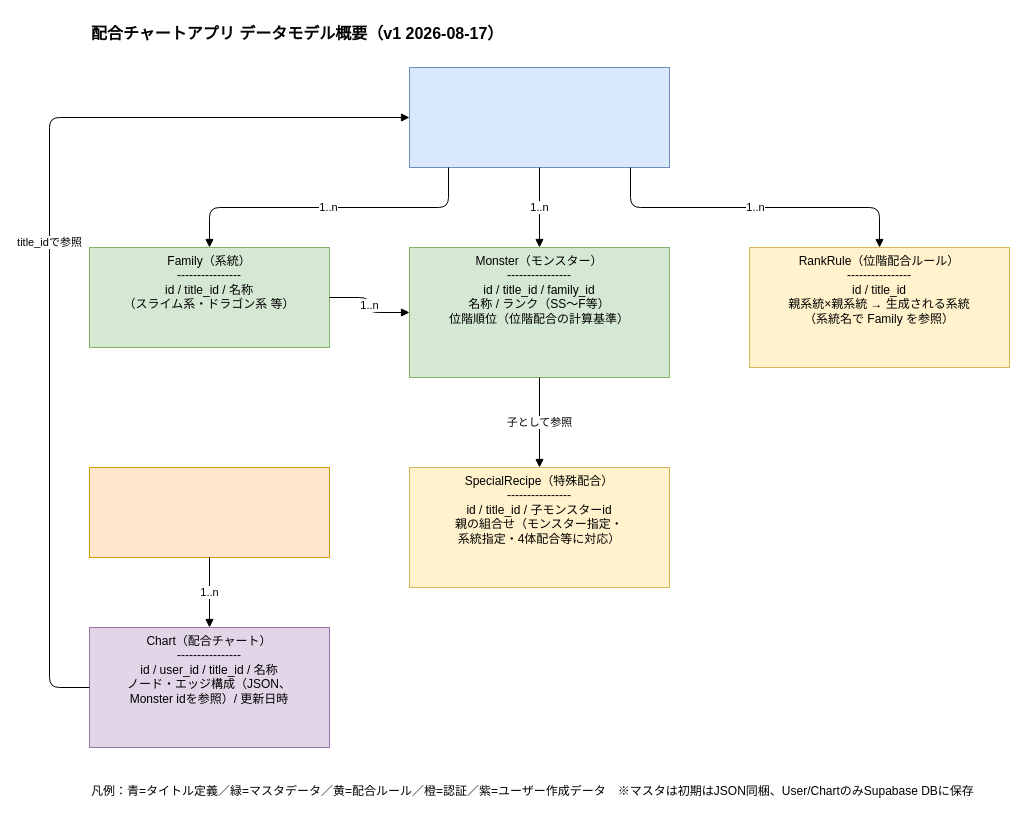
The diagram is 1027 pixels wide and 818 high, and some of its shapes have lost their labels. Here are the shapes that lost their labels. From the top down, the box of each, then its label:
(408, 66, 670, 168): Title（タイトル） ---------------- id / 名称（例：イルルカSP） 配合ルール種別
(88, 466, 330, 558): User（ユーザー） ---------------- id / Googleアカウント情報 （Supabase Authが管理）
